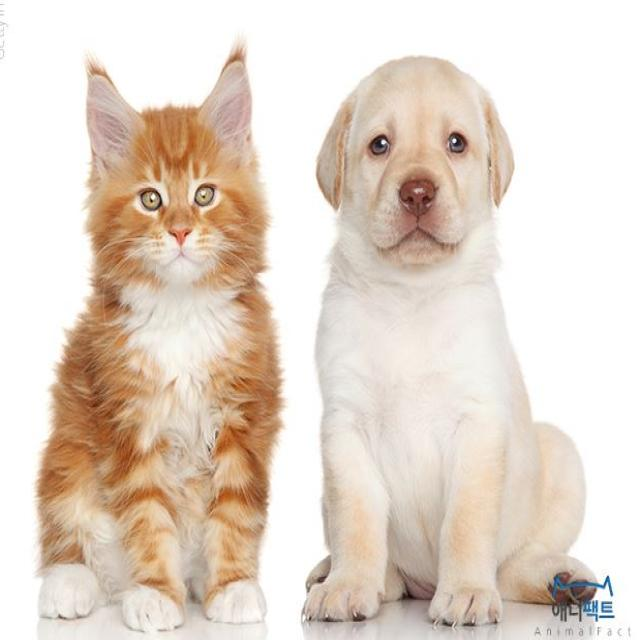cats: (75, 64, 283, 616)
dogs: (310, 48, 580, 611)
